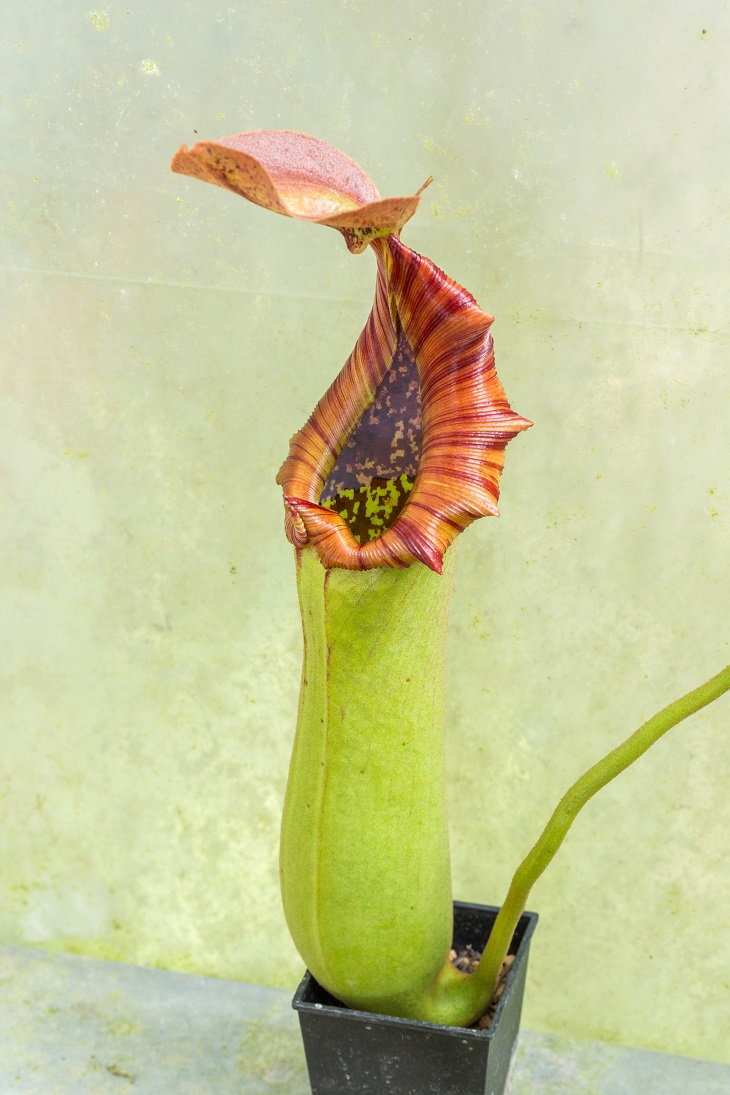truncata: (121, 125, 587, 1011)
